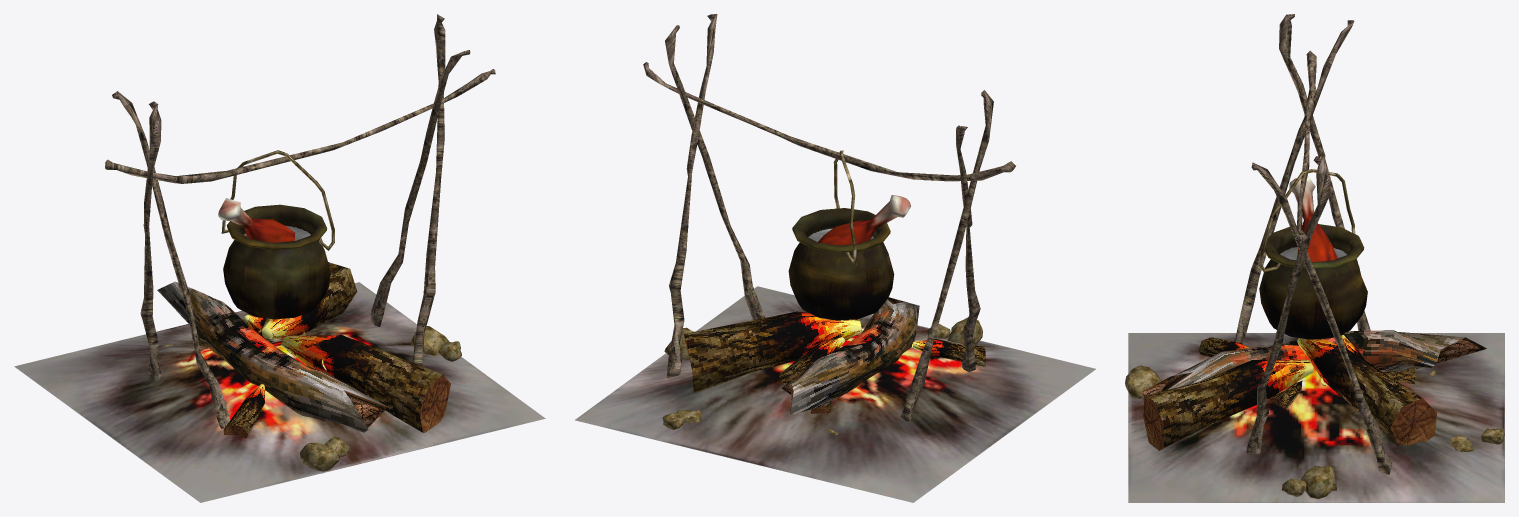
Rendered from CAMPFIRE.fbx.
3 views of the same model, side by side, from view 1: azimuth 30°, elevation 25°; view 2: azimuth 150°, elevation 25°; view 3: azimuth 270°, elevation 25° (orthographic). The views are drawn at different scales.
Parts seen in each view (by area): view 1: CAMPFIRE; view 2: CAMPFIRE; view 3: CAMPFIRE.
Part boxes in pixels (bbox=[...]): CAMPFIRE: bbox=[14, 14, 545, 502]; CAMPFIRE: bbox=[575, 14, 1095, 502]; CAMPFIRE: bbox=[1125, 14, 1504, 502].
Size of the model in its own units: 59951 by 51247 by 50910.
Materials: 11 (11 with a texture image).
